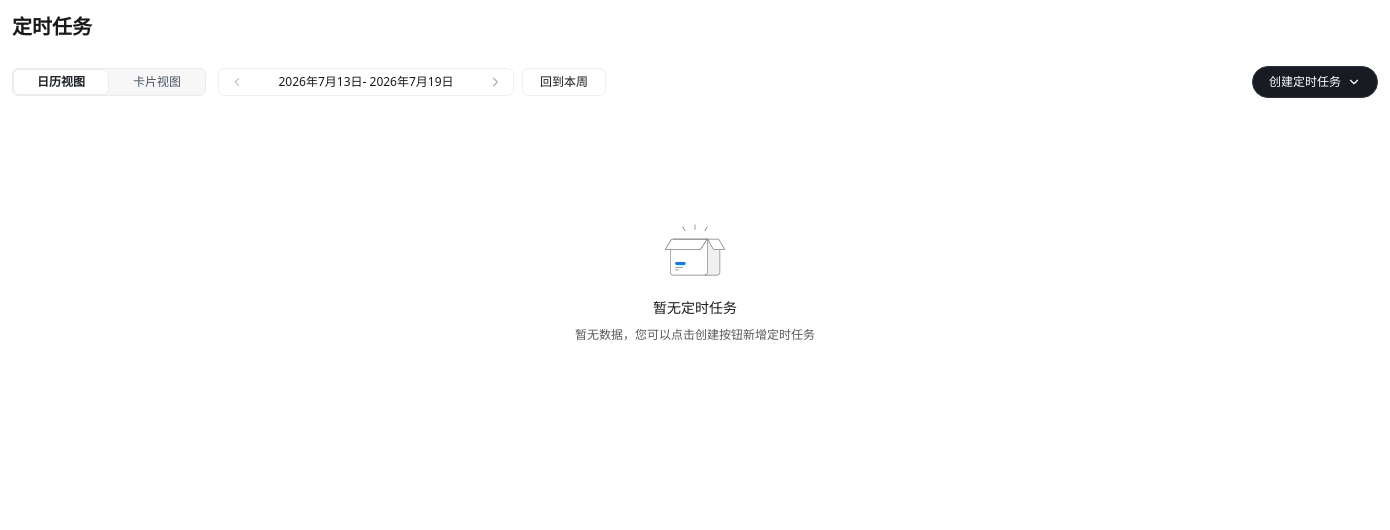
SchedulePanel › renders four template cards in card-view empty state with expected layout styles
Click the button "卡片视图" at (157, 82), box [109, 69, 205, 95]
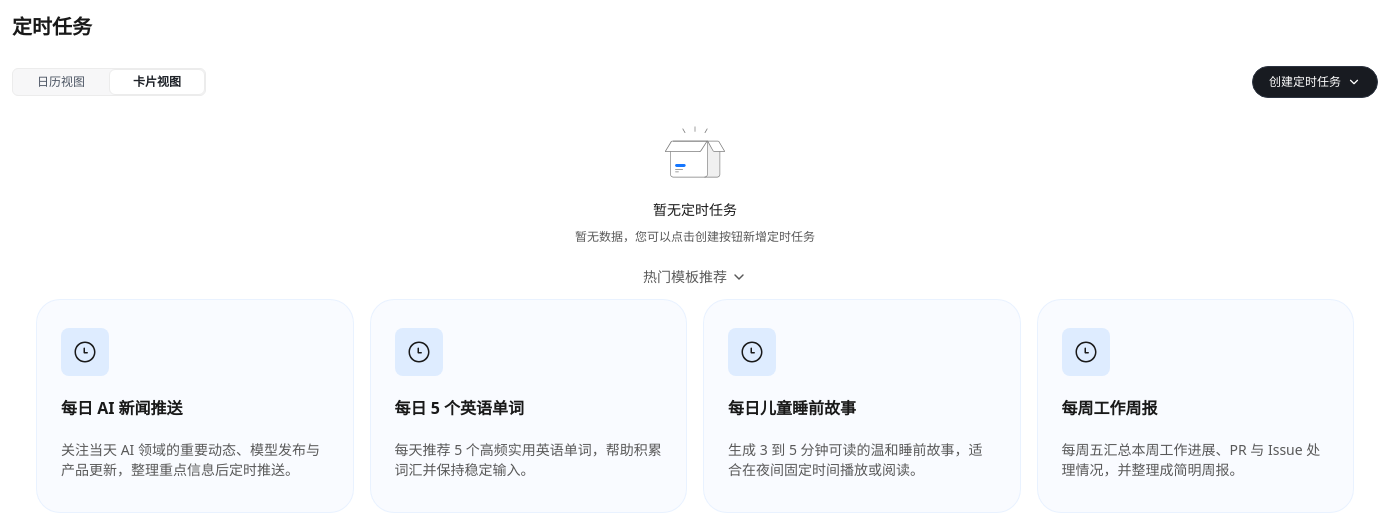
Expected: the button with test id "scheduled-task-empty-template-toggle" is shown
Expected: the button with test id "scheduled-task-empty-template-toggle" reads "热门模板推荐"
Expected: the text "关注当天 AI 领域的重要动态、模型发布与产品更新，整理重点信息后定时推送。" is shown, [61, 440, 328, 480]
Click the button with test id "scheduled-task-empty-template-toggle" at (695, 276), box [643, 266, 747, 287]
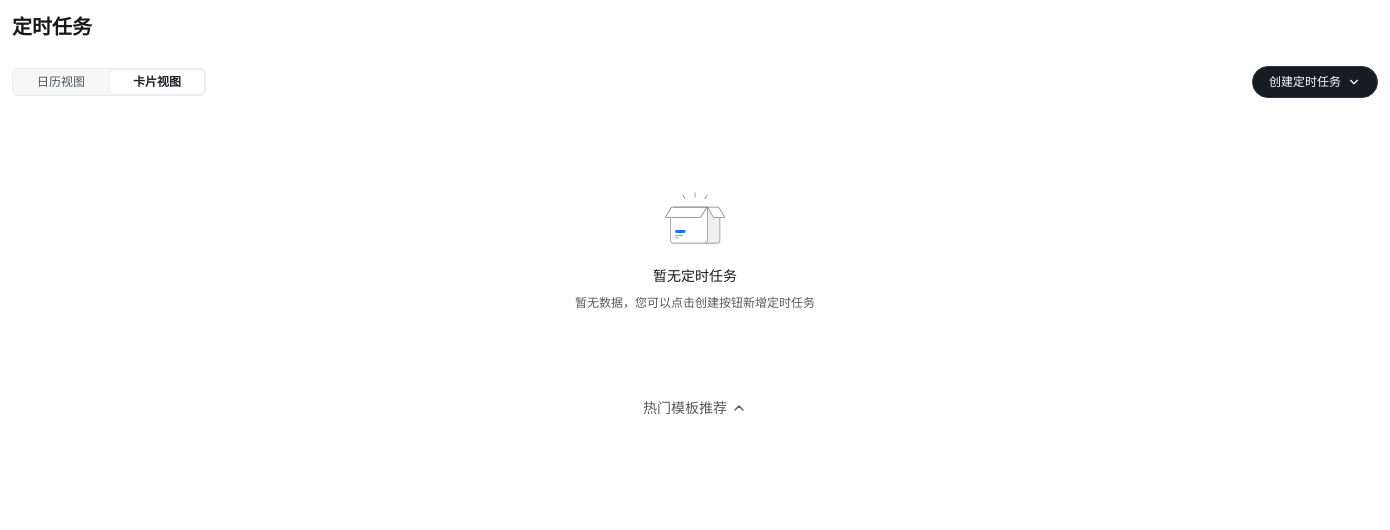
Expected: the button with test id "scheduled-task-empty-template-toggle" is collapsed
Click the button with test id "scheduled-task-empty-template-toggle" at (695, 408), box [643, 397, 747, 418]
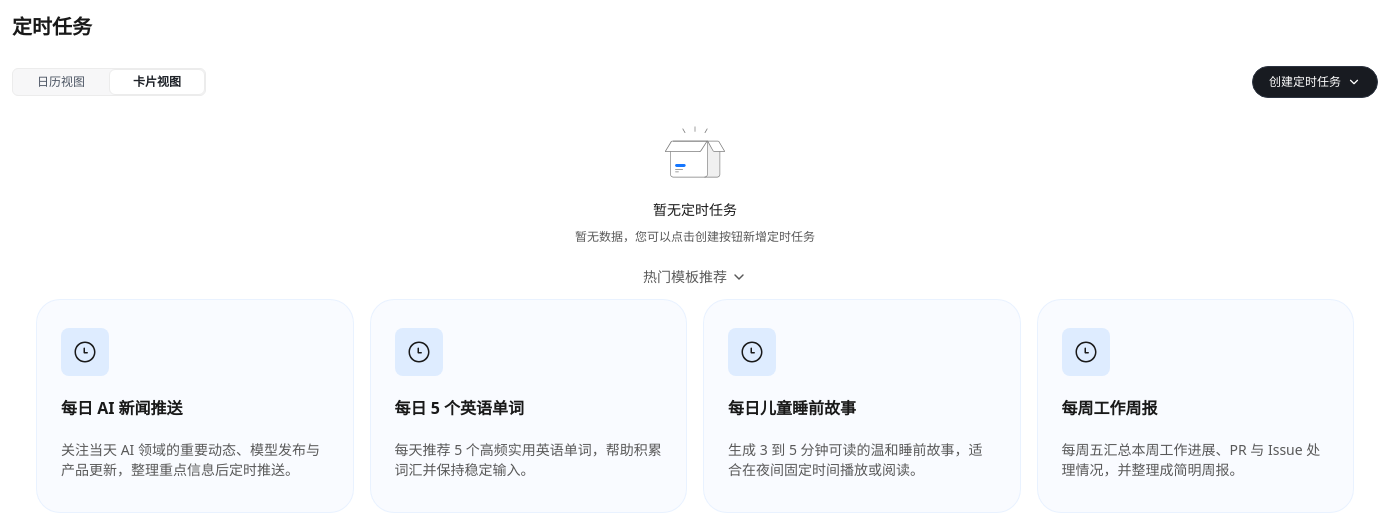
Expected: the button with test id "scheduled-task-empty-template-toggle" is expanded, [643, 266, 747, 287]
